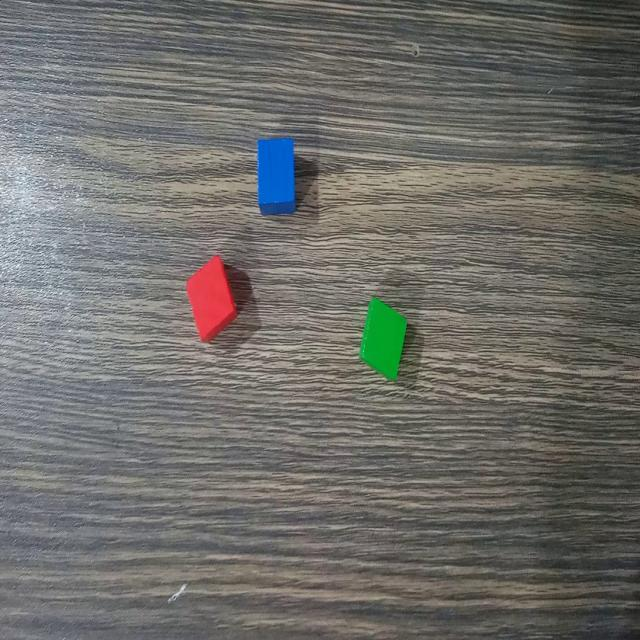cube: (184, 250, 239, 344), (358, 295, 410, 384), (254, 132, 299, 218)
